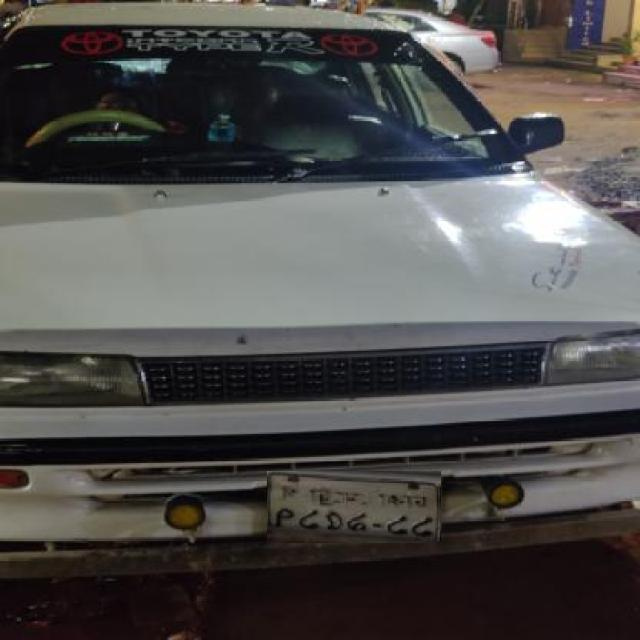numberplate: (268, 471, 442, 543)
